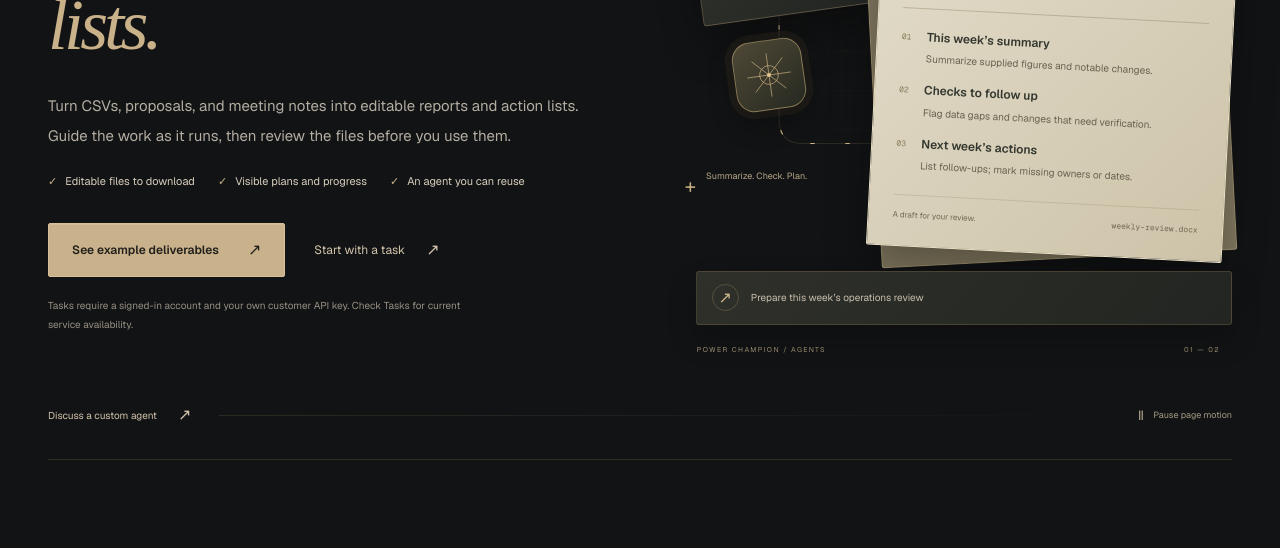
Test: Agent platform product page › lets a visitor explore the page without starting a task or making API requests
(page scrolled)
Step 1. Click the button "Ⅱ Pause page motion" → [1185, 415], box [1138,393,1232,437]
(page scrolled)
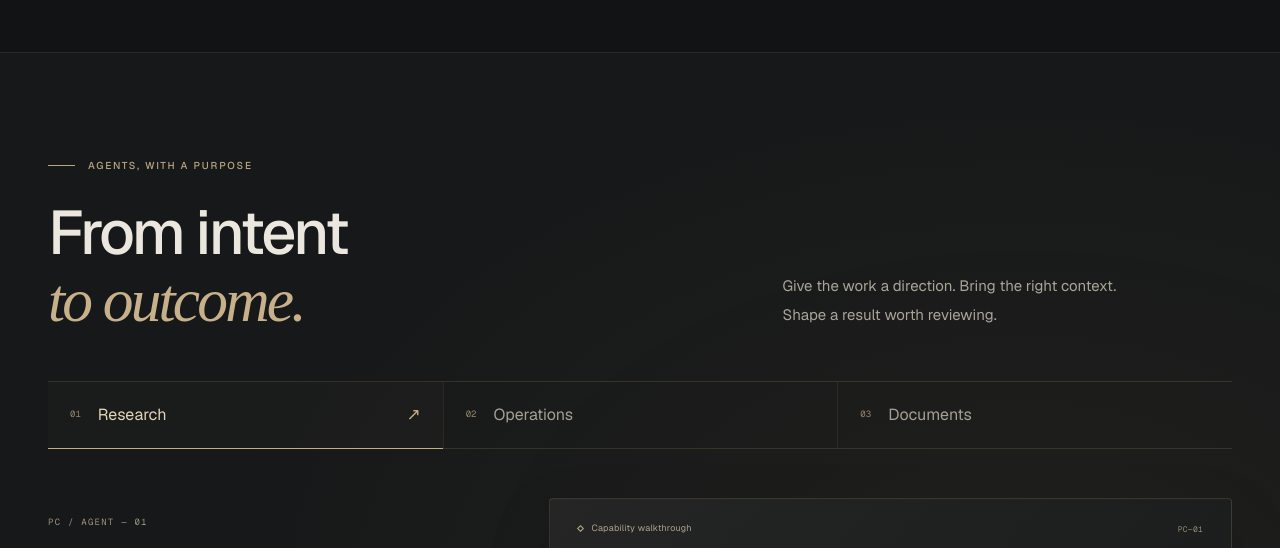
Step 2. Click the tab "02 Operations" → [533, 415], box [443,382,837,448]
(page scrolled)
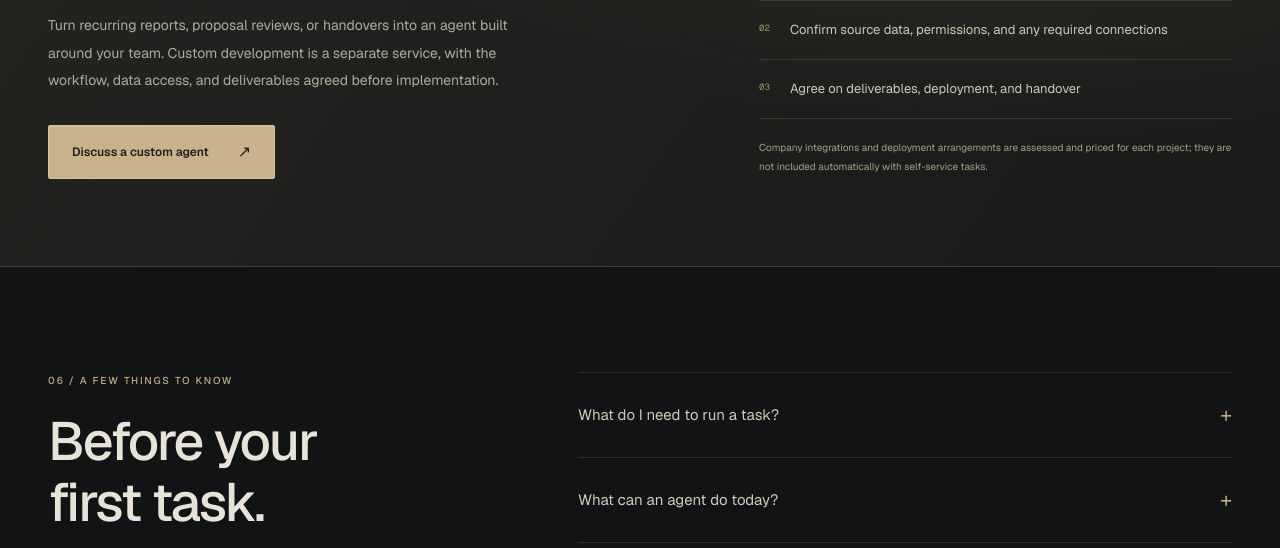
Step 3. Click the heading "What do I need to run a task? +" → [679, 415], box [578,401,1232,428]
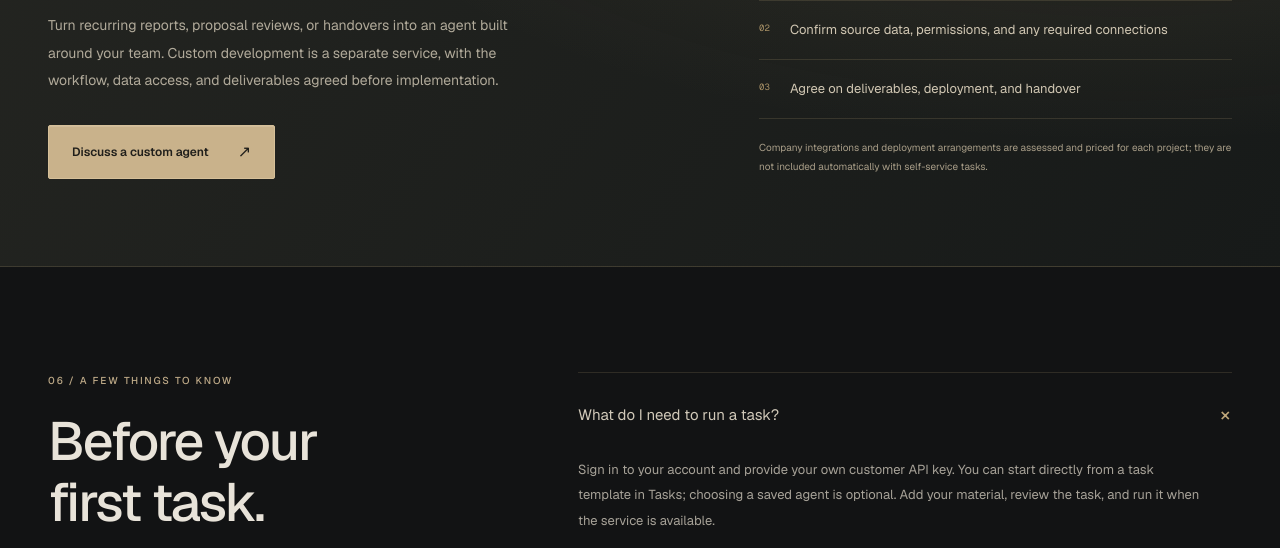
Expected: the text "Sign in to your account and provide your own customer API key. You can start directly from a task template in Tasks; cho" is shown, [578,461,1199,529]
